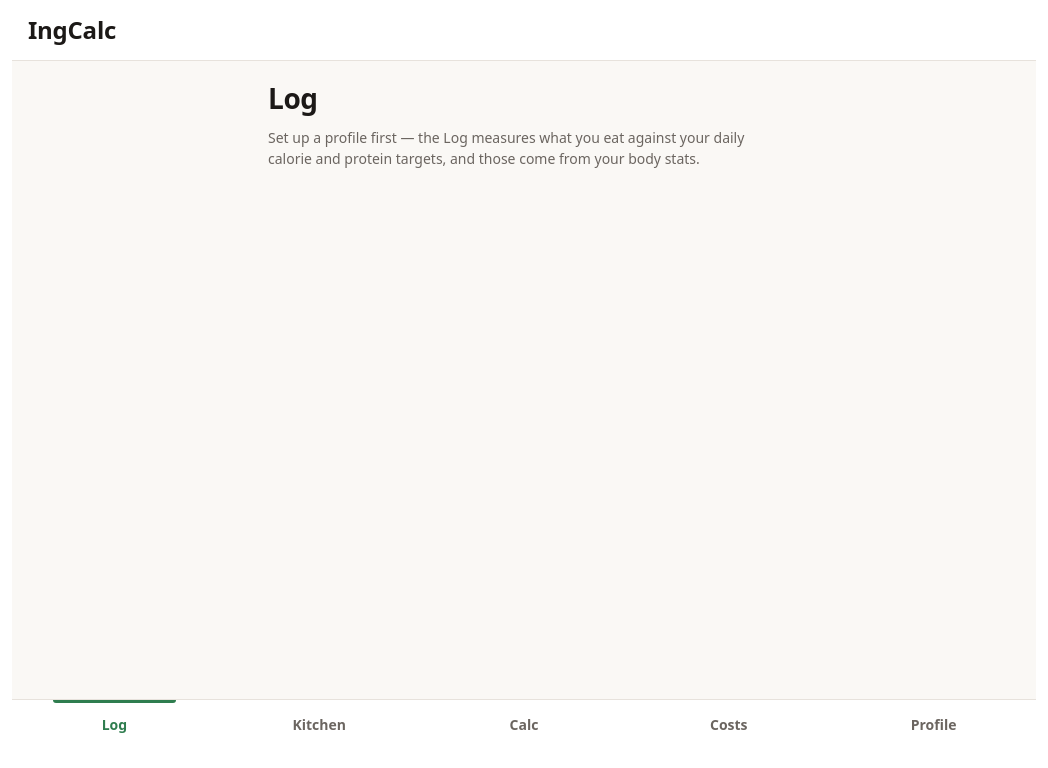
it: App › switches to the profile screen
Click the tab "Profile" at (934, 734), box [831,700,1036,767]
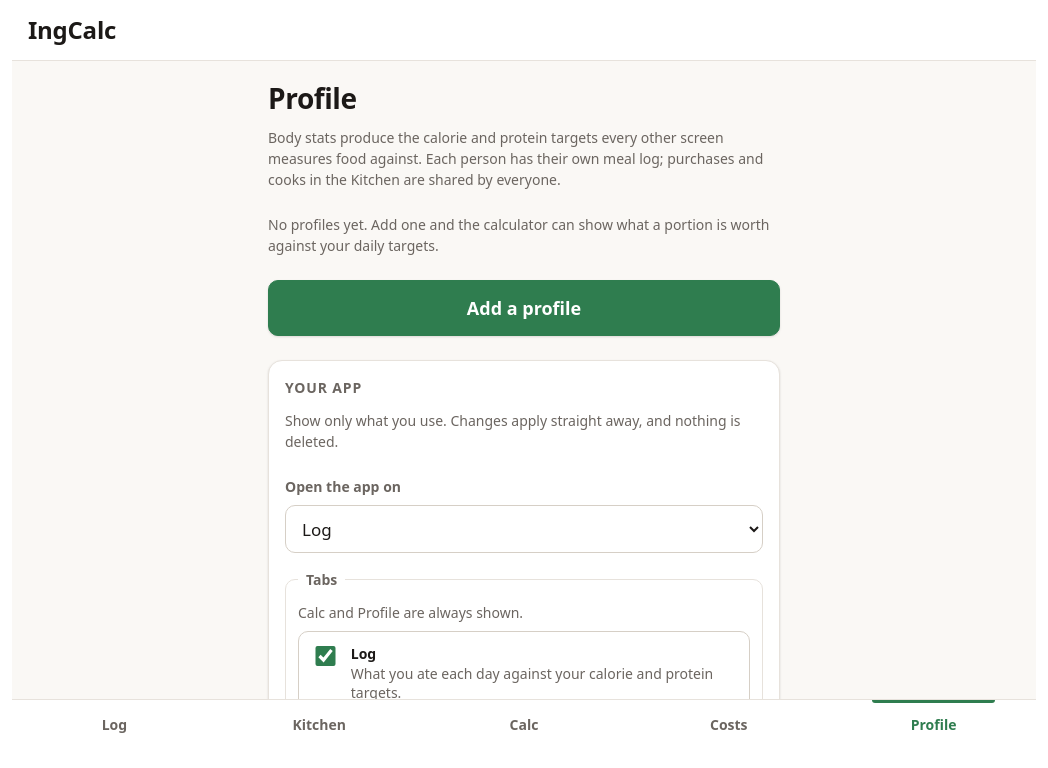
Now the text with test id "profiles-empty" is shown, box [268,214,780,256]
Click the button "Add a profile" at (524, 308), box [268,280,780,336]
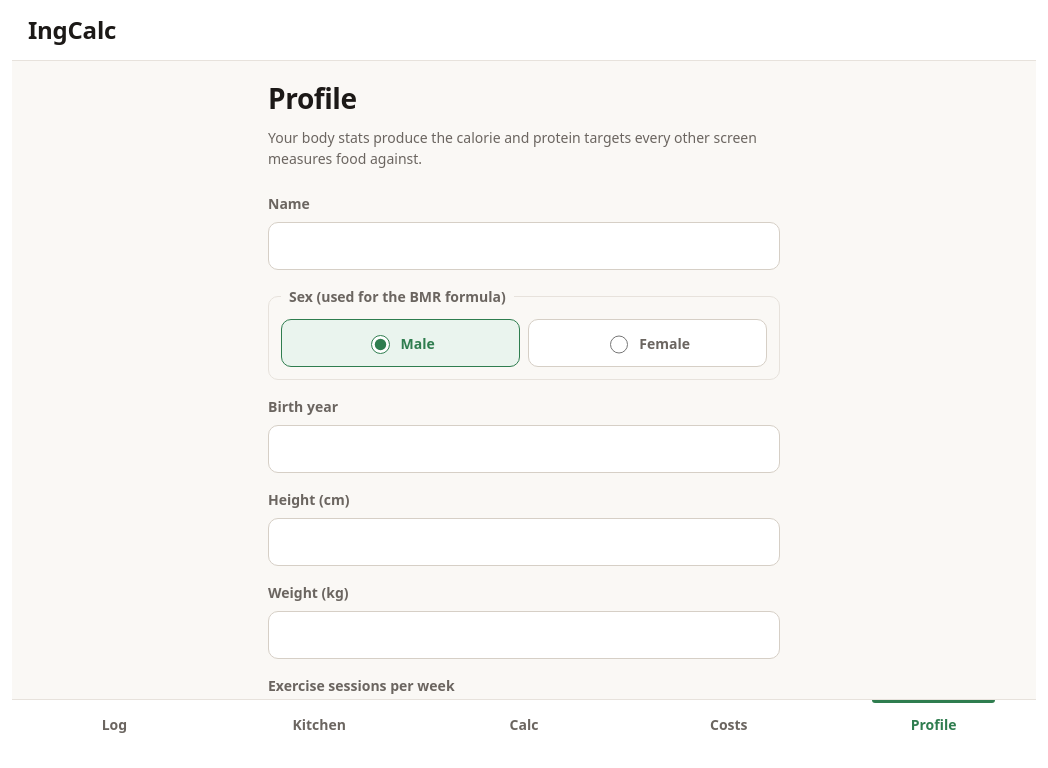
Now the number field labelled "Birth year" is shown, box [268,425,780,473]
